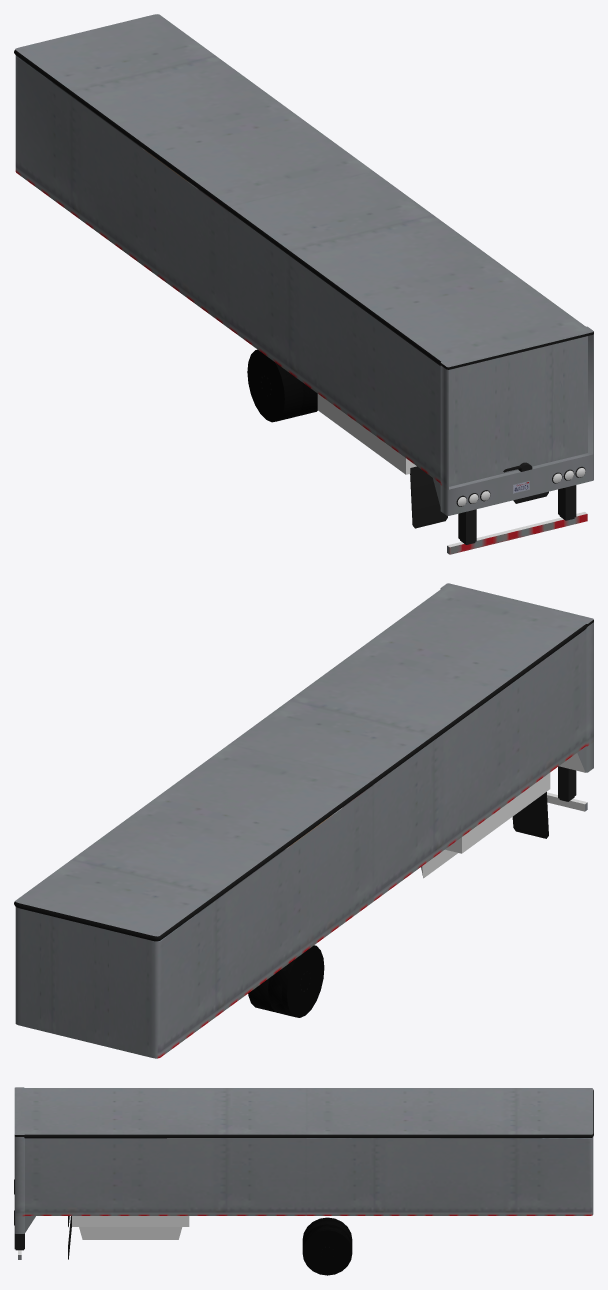
Rendered from MCLA_VA_SEMITRUCK_00_TRAILER.glb.
3 views of the same model, one above another, from view 1: azimuth 30°, elevation 25°; view 2: azimuth 150°, elevation 25°; view 3: azimuth 270°, elevation 25° (orthographic). The views are drawn at different scales.
Visible parts, largest first — view 1: va_semitruck_00_trailer/resources/vehicle/va_semitruck_00_tr; view 2: va_semitruck_00_trailer/resources/vehicle/va_semitruck_00_tr; view 3: va_semitruck_00_trailer/resources/vehicle/va_semitruck_00_tr.
Boxes of the visible parts, x1=… form: va_semitruck_00_trailer/resources/vehicle/va_semitruck_00_tr: x1=14, y1=14, x2=593, y2=554; va_semitruck_00_trailer/resources/vehicle/va_semitruck_00_tr: x1=14, y1=583, x2=593, y2=1058; va_semitruck_00_trailer/resources/vehicle/va_semitruck_00_tr: x1=14, y1=1087, x2=593, y2=1275.
Bounding box in the file's own units: 2.65 × 4.08 × 13.57.
Materials: 8 (6 with a texture image).
